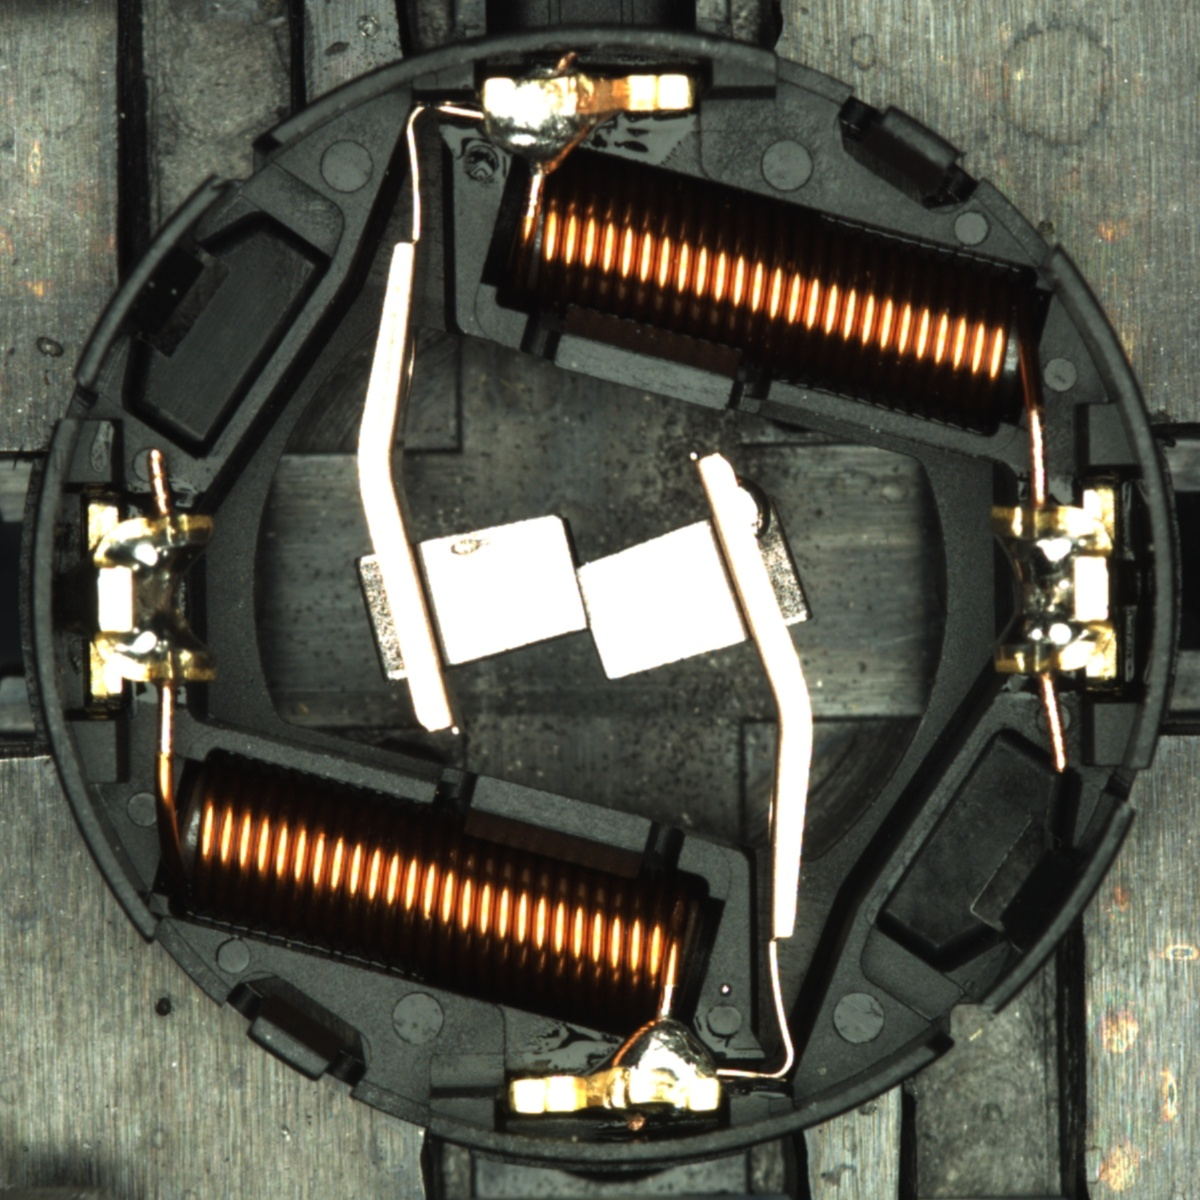1: (258, 55, 487, 279), (716, 953, 945, 1177)
2: (716, 55, 945, 279), (258, 953, 487, 1177)
3: (29, 279, 258, 503), (945, 729, 1175, 953)
4: (258, 279, 487, 503), (716, 729, 945, 953)
5: (487, 167, 716, 391), (487, 841, 716, 1065)
6: (716, 279, 945, 503), (258, 729, 487, 953)
7: (945, 279, 1175, 503), (29, 729, 258, 953)
bui_chi: (719, 984, 732, 996)
chau_dien: (81, 496, 222, 700), (982, 487, 1123, 686)
hat_chi: (735, 476, 771, 538)
tay_choi: (480, 70, 697, 176), (509, 1016, 723, 1116)
thanh_de: (954, 788, 1141, 1029), (58, 165, 244, 403)
